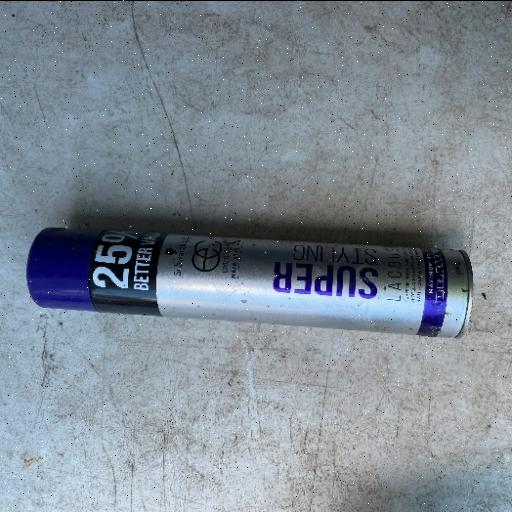Metal: (24, 224, 472, 340)
